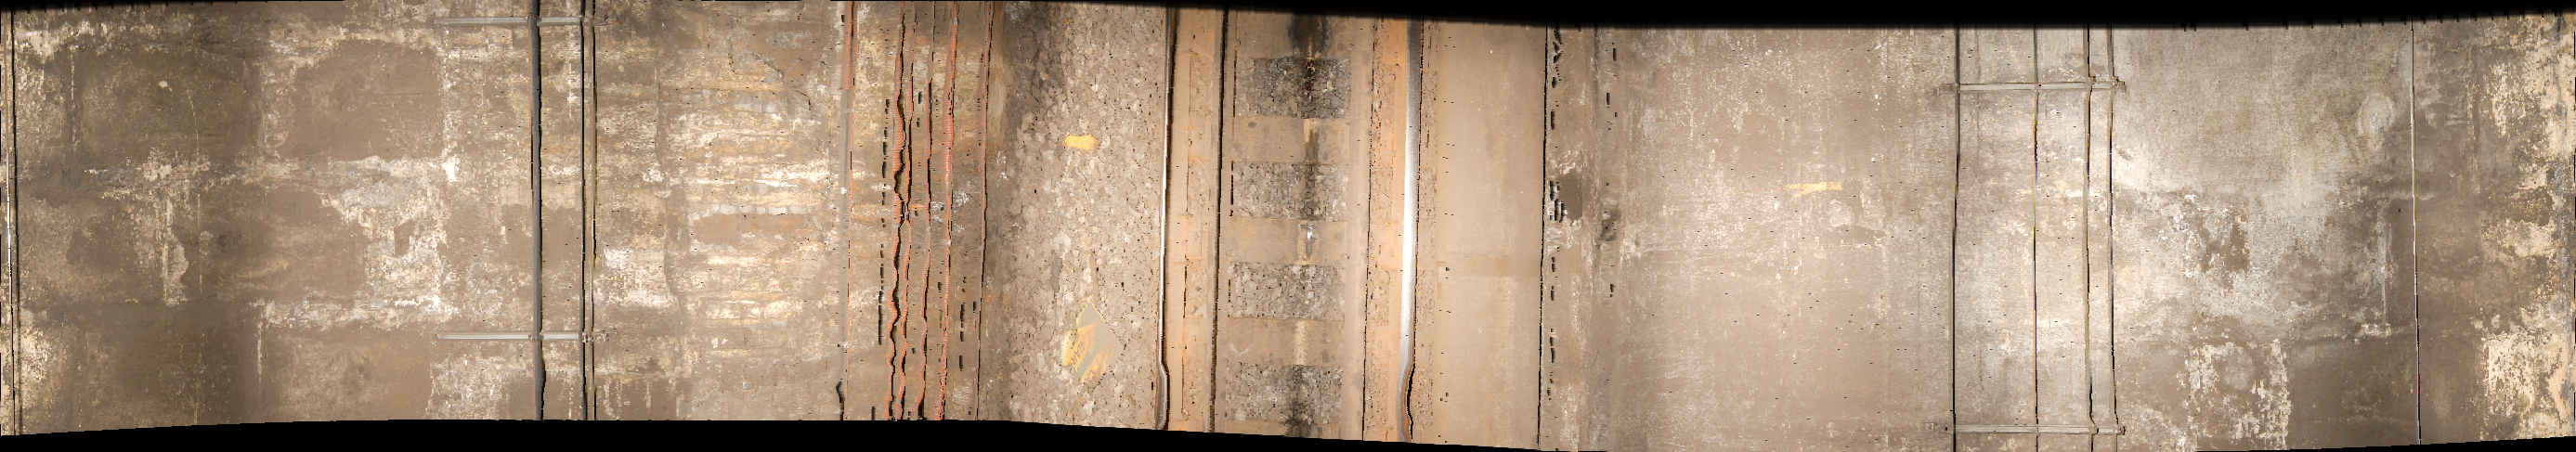pipes: (838, 5, 1000, 452), (2024, 31, 2126, 452), (529, 3, 603, 452), (1942, 26, 1968, 452)
tracks: (1163, 12, 1431, 452)
